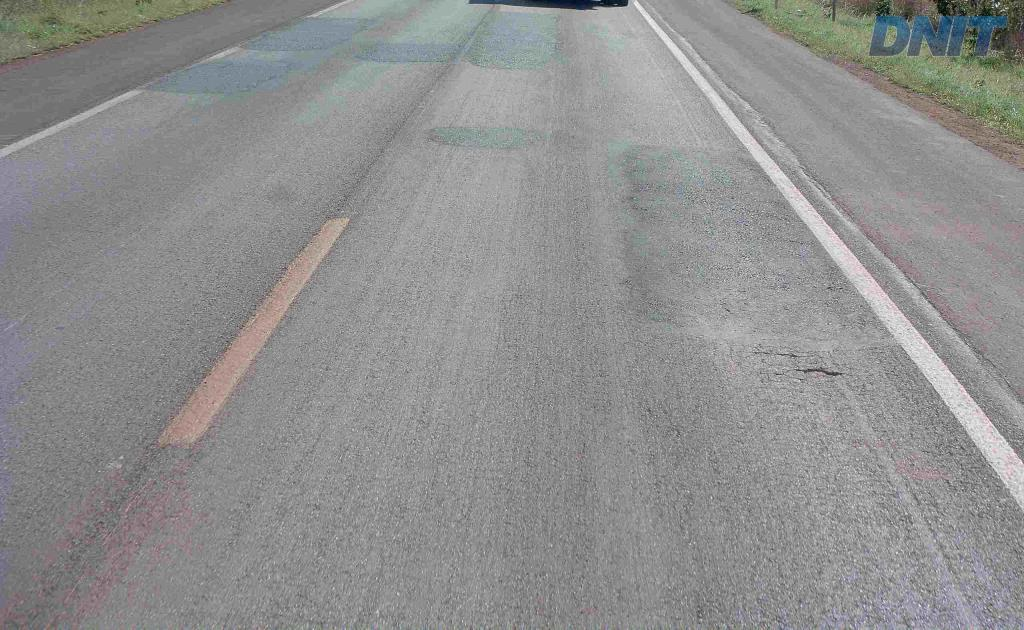pothole: (779, 361, 854, 377)
